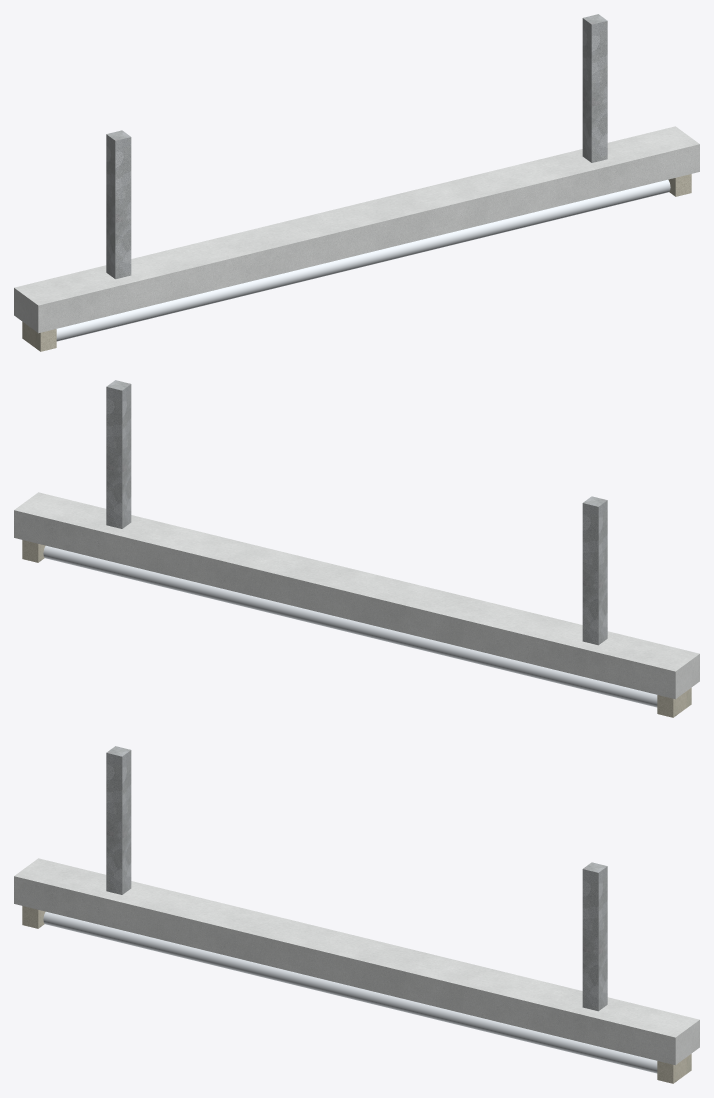
File: C21a_Fluorescent_Light.fbx
3 renders of one model, top to bottom at view 1: azimuth 30°, elevation 25°; view 2: azimuth 150°, elevation 25°; view 3: azimuth 330°, elevation 25°, orthographic.
Visible parts, largest first — view 1: Batten, Tube_T8, Bracket.001, Bracket, EndCap; view 2: Batten, Tube_T8, Bracket.001, Bracket, EndCap; view 3: Batten, Tube_T8, Bracket, Bracket.001, EndCap.001.
Boxes of the visible parts, left/top/right/bottom form: Batten: left=14, top=126, right=699, bottom=333; Tube_T8: left=56, top=179, right=670, bottom=341; Bracket.001: left=582, top=14, right=607, bottom=162; Bracket: left=106, top=130, right=131, bottom=279; EndCap: left=22, top=322, right=56, bottom=351; Batten: left=14, top=492, right=699, bottom=699; Tube_T8: left=43, top=545, right=657, bottom=707; Bracket.001: left=106, top=380, right=131, bottom=528; Bracket: left=582, top=496, right=607, bottom=645; EndCap: left=657, top=688, right=691, bottom=717; Batten: left=14, top=858, right=699, bottom=1065; Tube_T8: left=43, top=911, right=657, bottom=1073; Bracket: left=106, top=746, right=131, bottom=894; Bracket.001: left=582, top=862, right=607, bottom=1011; EndCap.001: left=657, top=1054, right=691, bottom=1083.
Size of the model in its own units: 1.25 by 0.343 by 0.08.
Materials: 4 (3 with a texture image).
